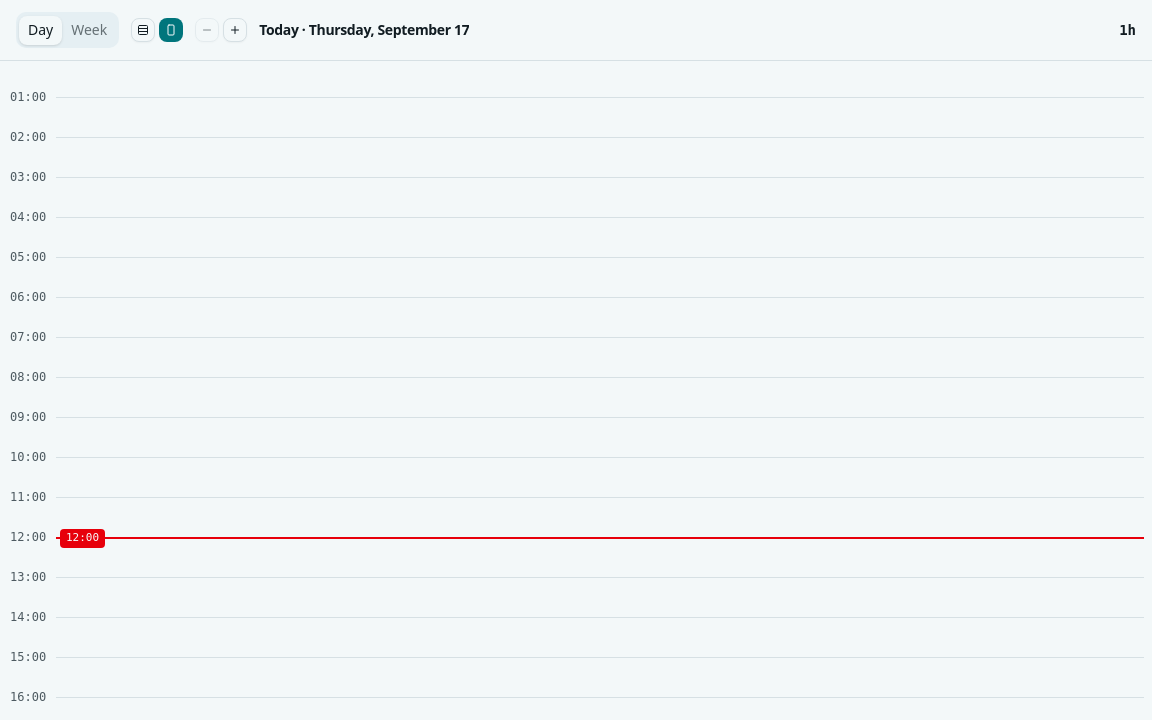
it: Timeline 比例档位持久化 › 点击放大按钮后档位写入 localStorage
The image size is (1152, 720).
What coordinates should you click on to do the following:
click the button named "Zoom in"
I would click on:
 (235, 30)
Its box is [223,18,247,42].
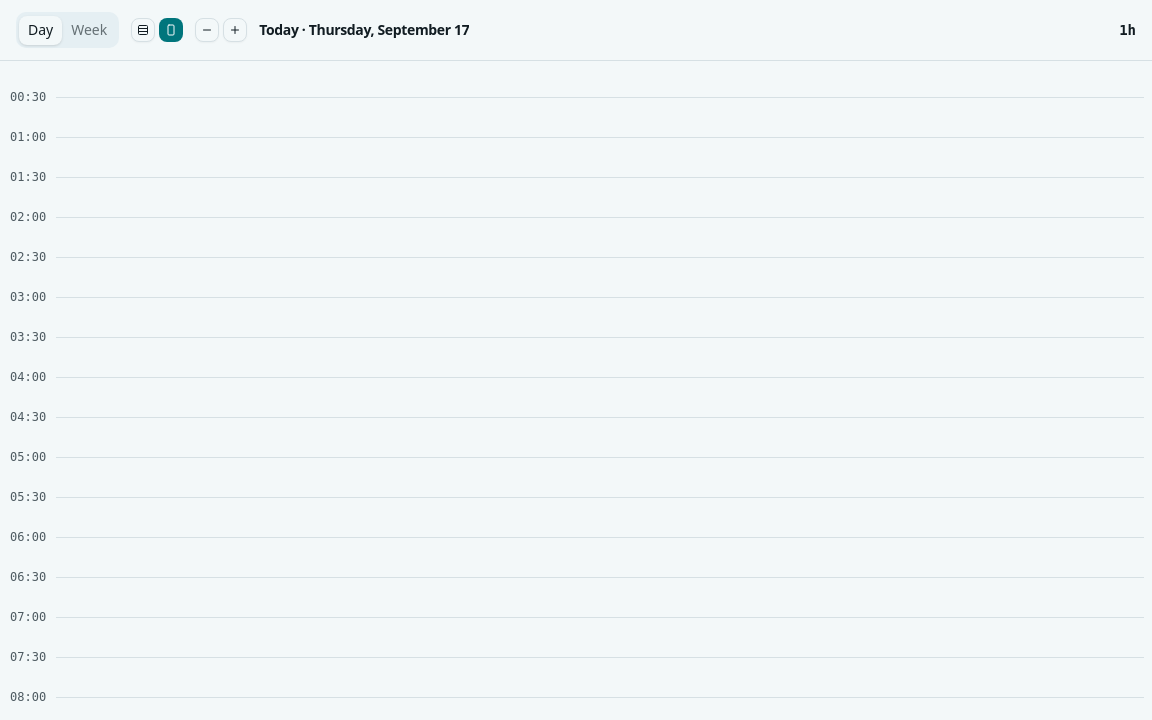
Expected: the number of elements with class "hour" is 49
